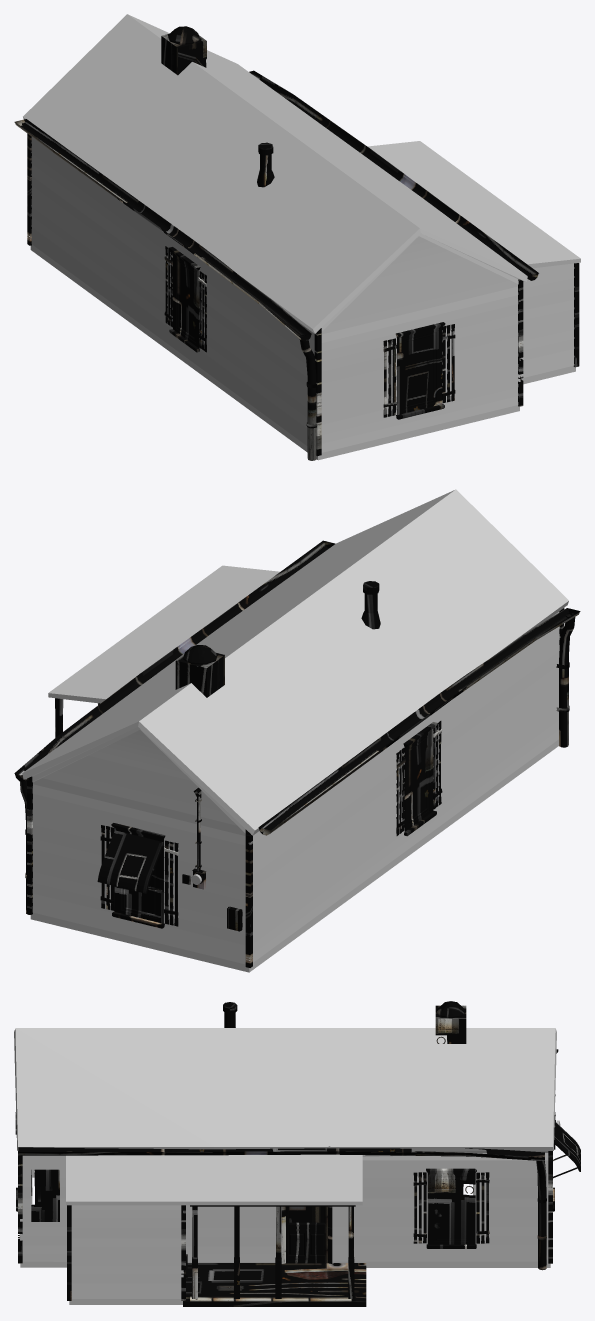
File: 221_National_Street.fbx
3 renders of one model, top to bottom at view 1: azimuth 30°, elevation 25°; view 2: azimuth 150°, elevation 25°; view 3: azimuth 270°, elevation 25°, orthographic. The views are drawn at different scales.
Visible parts, largest first — view 1: Exterior, Trims, Window_Glass; view 2: Exterior, Trims, Awning, Window_Glass; view 3: Exterior, Trims, Window_Glass, Awning.
Boxes of the visible parts, box(x1,y1,x2,y2) form: Exterior: box(23, 14, 580, 460); Trims: box(14, 26, 579, 460); Window_Glass: box(179, 262, 432, 406); Exterior: box(22, 489, 568, 972); Trims: box(14, 540, 580, 967); Awning: box(97, 830, 163, 893); Window_Glass: box(125, 739, 426, 914); Exterior: box(14, 1028, 556, 1304); Trims: box(15, 1001, 577, 1306); Window_Glass: box(34, 1172, 465, 1238); Awning: box(554, 1122, 580, 1171).
Size of the model in its own units: 14.55 by 10.76 by 25.18.
